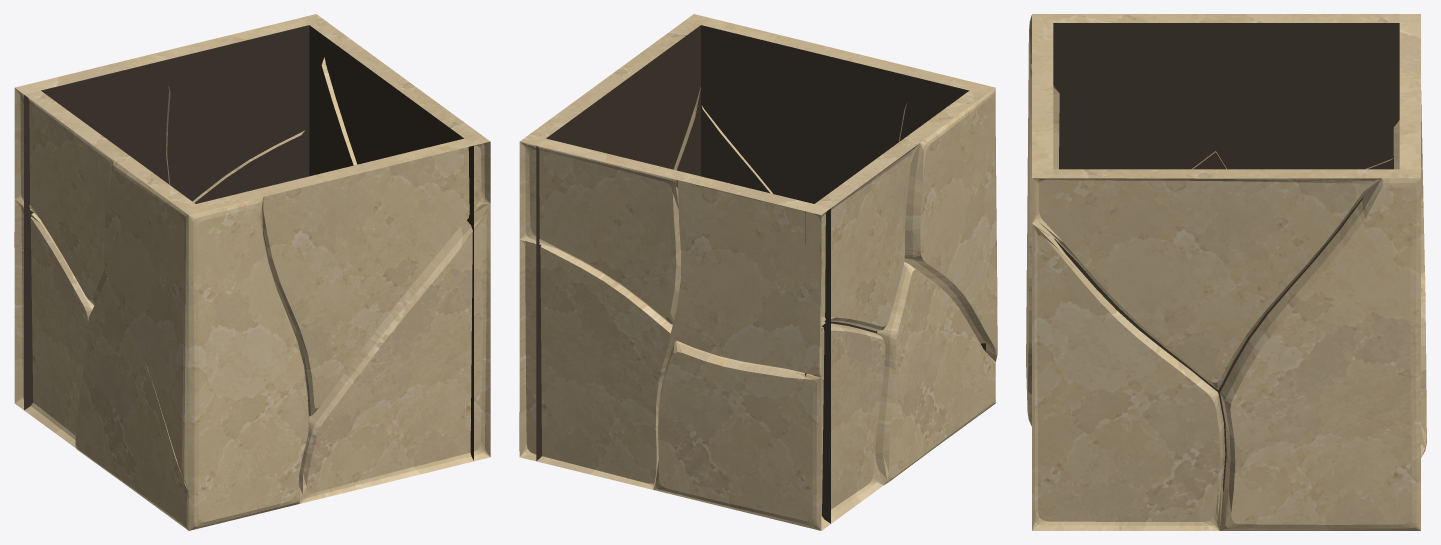
File: ground_square_island_08.glb
3 renders of one model, left to right at view 1: azimuth 30°, elevation 25°; view 2: azimuth 150°, elevation 25°; view 3: azimuth 270°, elevation 25°, orthographic. The views are drawn at different scales.
Visible parts, largest first — view 1: GroundSquareIsland08_Body; view 2: GroundSquareIsland08_Body; view 3: GroundSquareIsland08_Body.
Part boxes in pixels (x1,y1,x2,y2): GroundSquareIsland08_Body: (14,14,490,530); GroundSquareIsland08_Body: (519,14,997,530); GroundSquareIsland08_Body: (1026,14,1426,530).
Size of the model in its own units: 1.03 by 1 by 1.03.
Materials: 16 (15 with a texture image).
